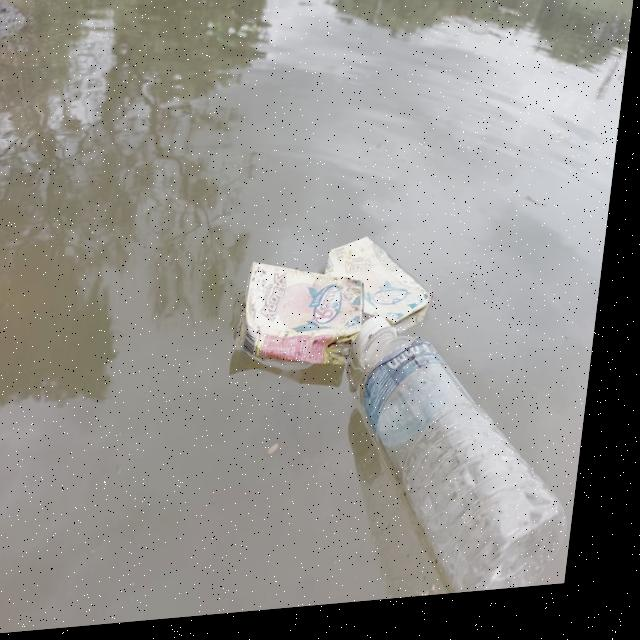paper: (226, 250, 381, 407), (312, 238, 445, 349)
waterbottle: (335, 294, 608, 612)
